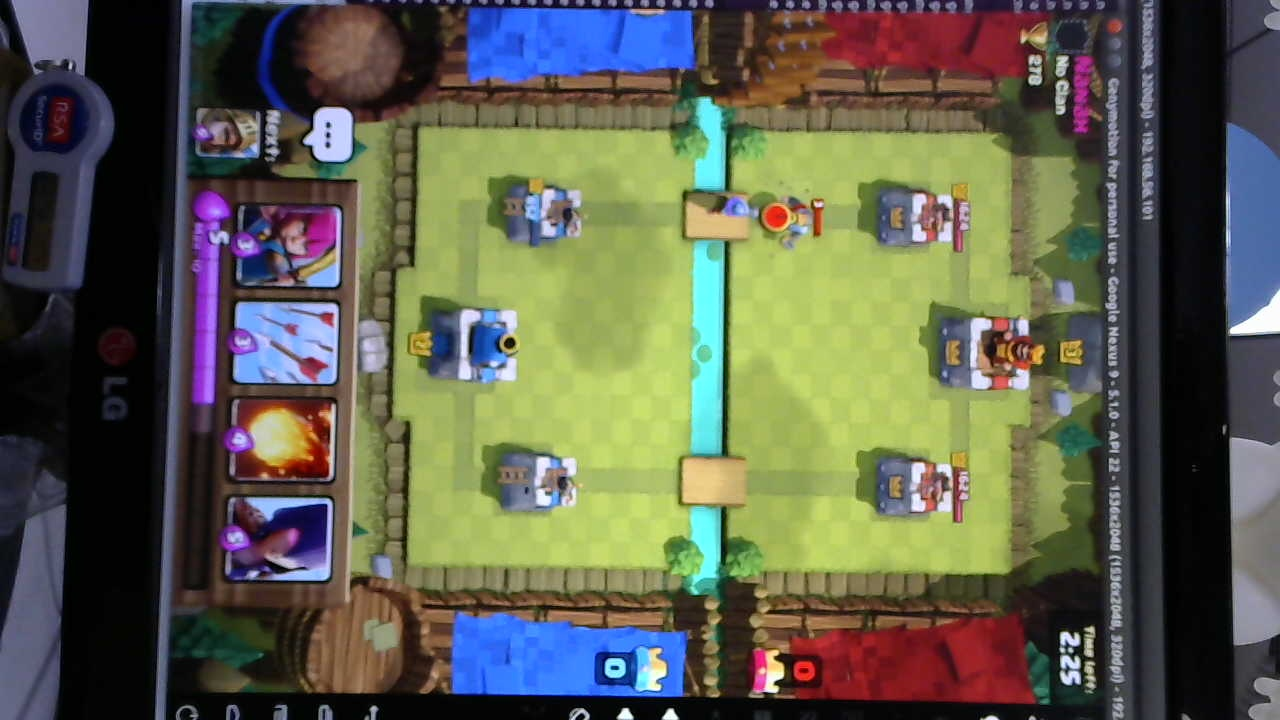arena: (501, 446, 587, 518), (512, 183, 585, 244)
earena: (873, 186, 958, 255), (877, 452, 958, 521)
eking: (934, 307, 1040, 394)
king: (431, 297, 528, 388)
knight: (778, 190, 815, 251)
musketeer: (705, 191, 756, 222)
